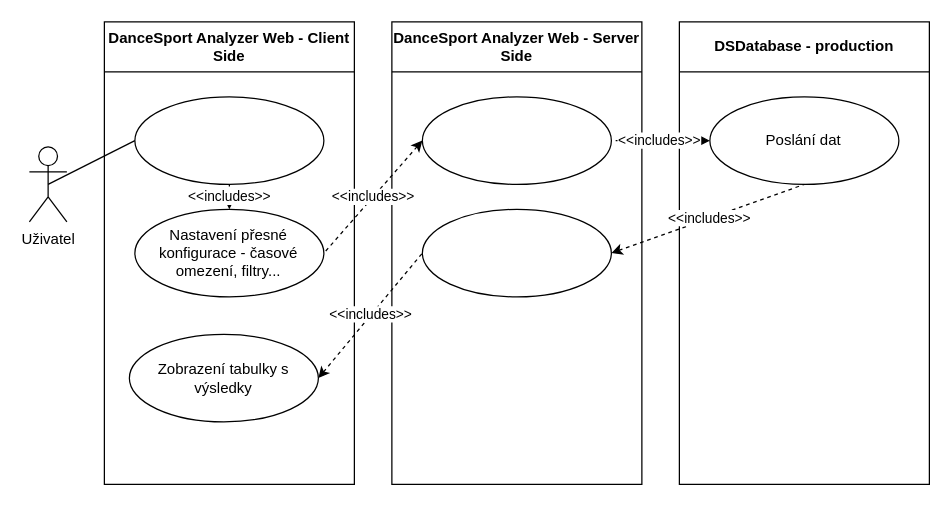
The diagram is 951 pixels wide and 506 high, and some of its shapes have lost their labels. Here are the shapes that lost their labels. From the top down, the centre of each, then its label:
the point at 229,140: Request na zobrazení základní tabulky s porotci
the point at 516,140: Zpracování requestu a načtení stránky
the point at 516,252: Poslání dat klientovi
